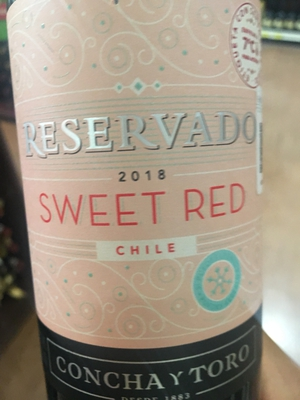reservado sweet red: (7, 2, 273, 400)
